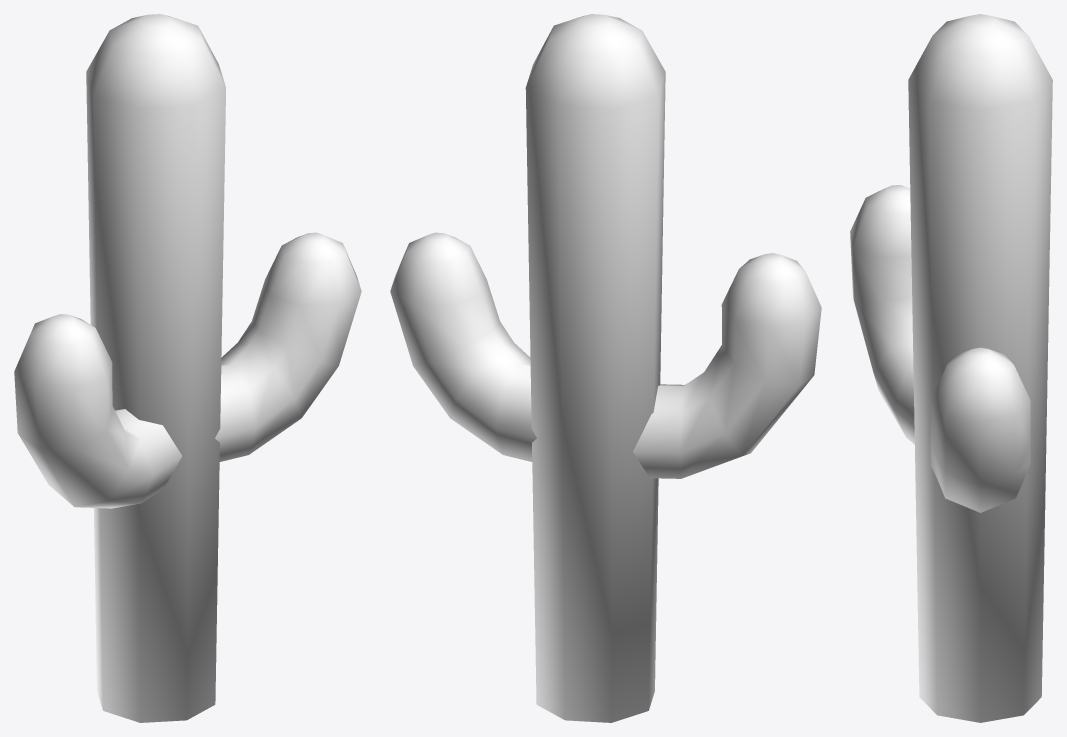
The model's file is DesertCactus02.glb.
3 views of the same model, side by side, from view 1: azimuth 30°, elevation 25°; view 2: azimuth 150°, elevation 25°; view 3: azimuth 270°, elevation 25° (orthographic).
Visible parts, largest first — view 1: DesertCactus02; view 2: DesertCactus02; view 3: DesertCactus02.
Part boxes in pixels (x1=…): DesertCactus02: x1=14, y1=14, x2=361, y2=722; DesertCactus02: x1=390, y1=14, x2=821, y2=722; DesertCactus02: x1=850, y1=14, x2=1052, y2=722.
Size of the model in its own units: 2.13 by 3.66 by 0.9937.
Materials: 1 (1 with a texture image).
